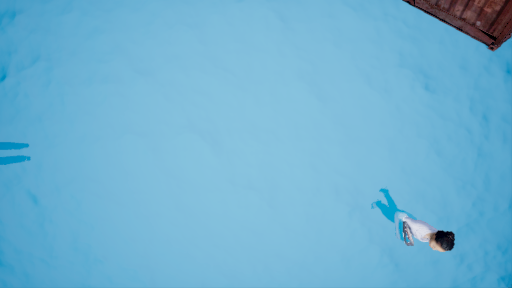person: (373, 192, 464, 259)
